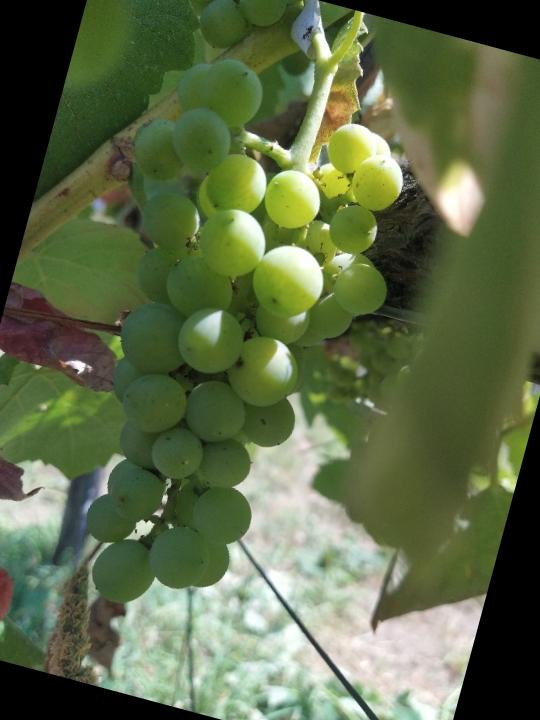grape: (11, 35, 443, 655)
